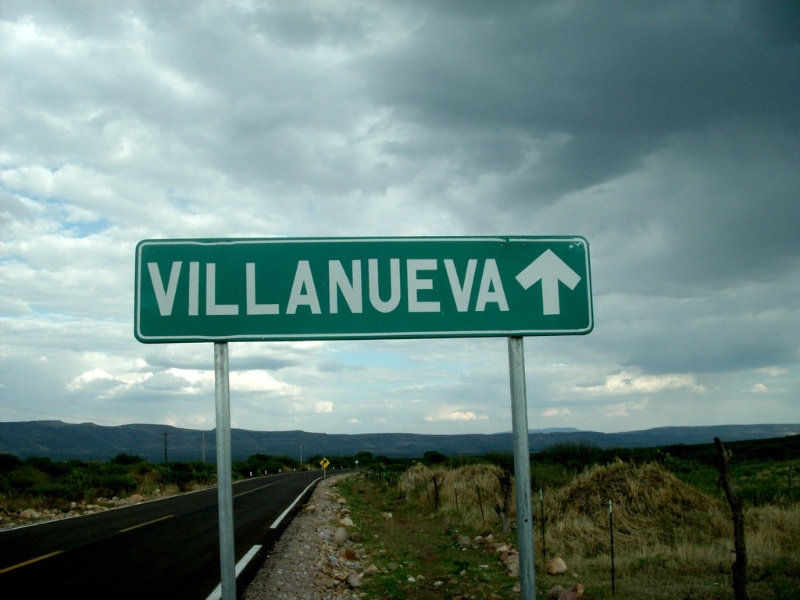red_light: (509, 241, 588, 326)
